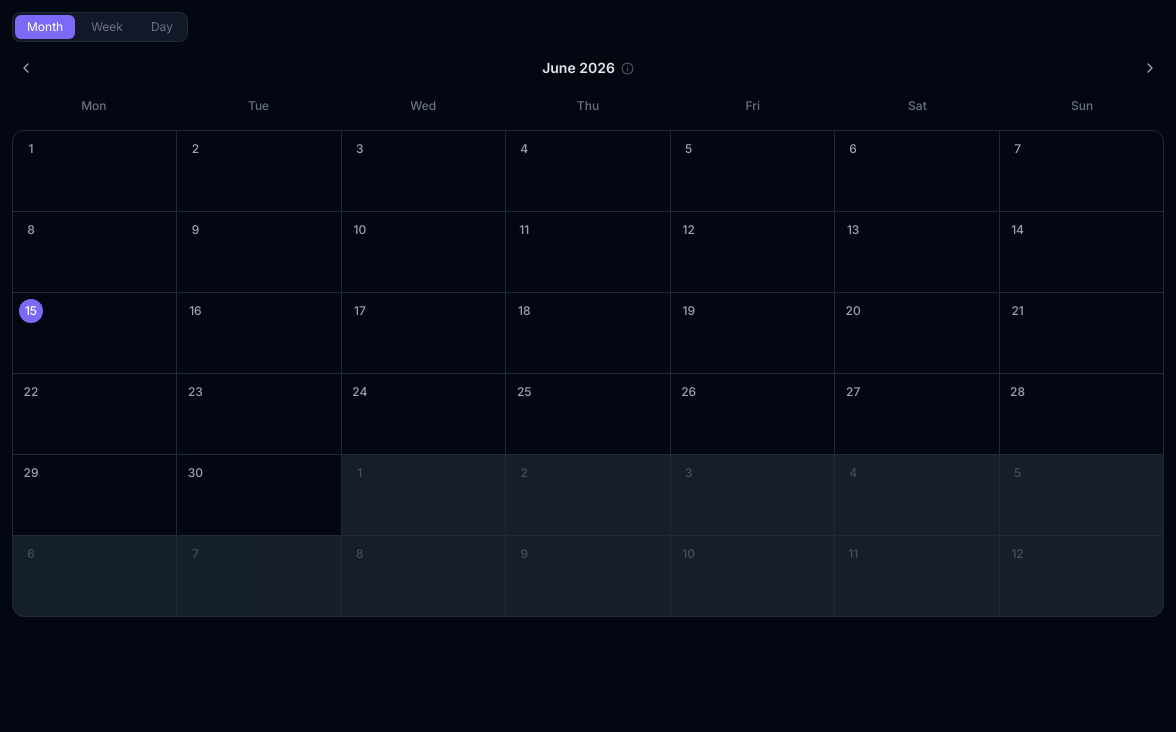
Test: CalendarView › navigates to previous month on clicking left arrow
The width and height of the screenshot is (1176, 732).
What coordinates should you click on to do the following:
click the button named "previous month"
I would click on:
 (26, 68)
Its box is [12,54,40,82].
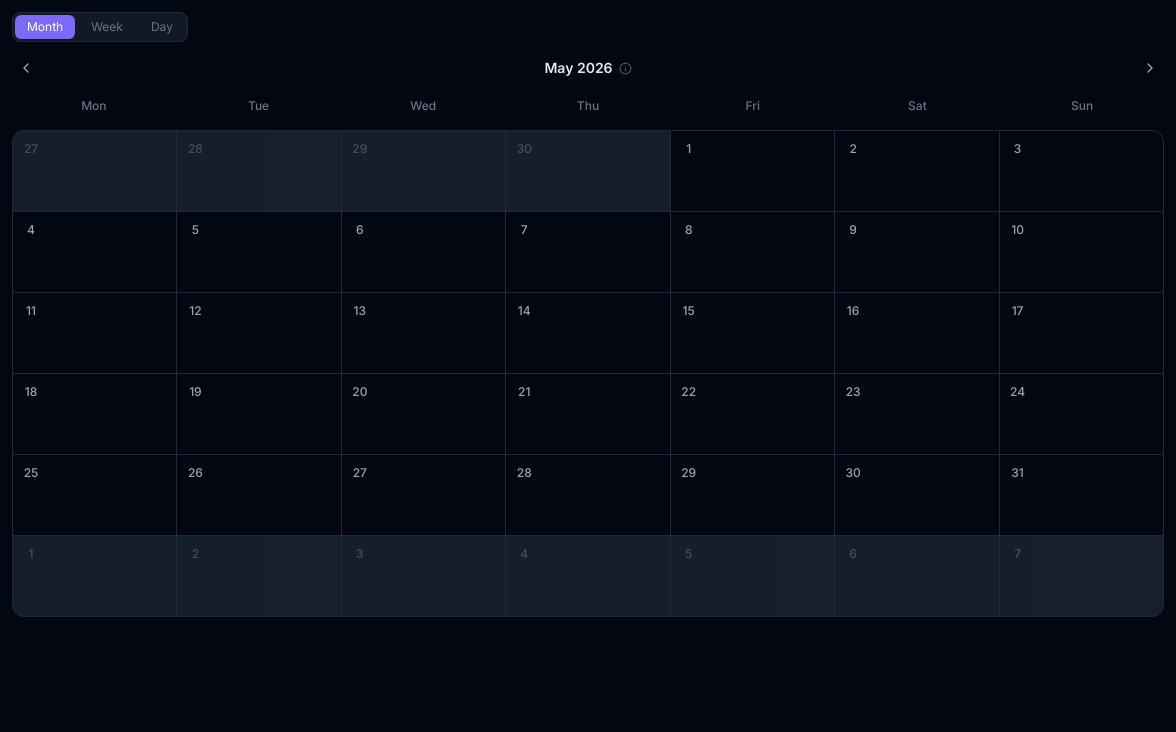
Check: the text "May 2026" is shown, box [544,58,612,78]
